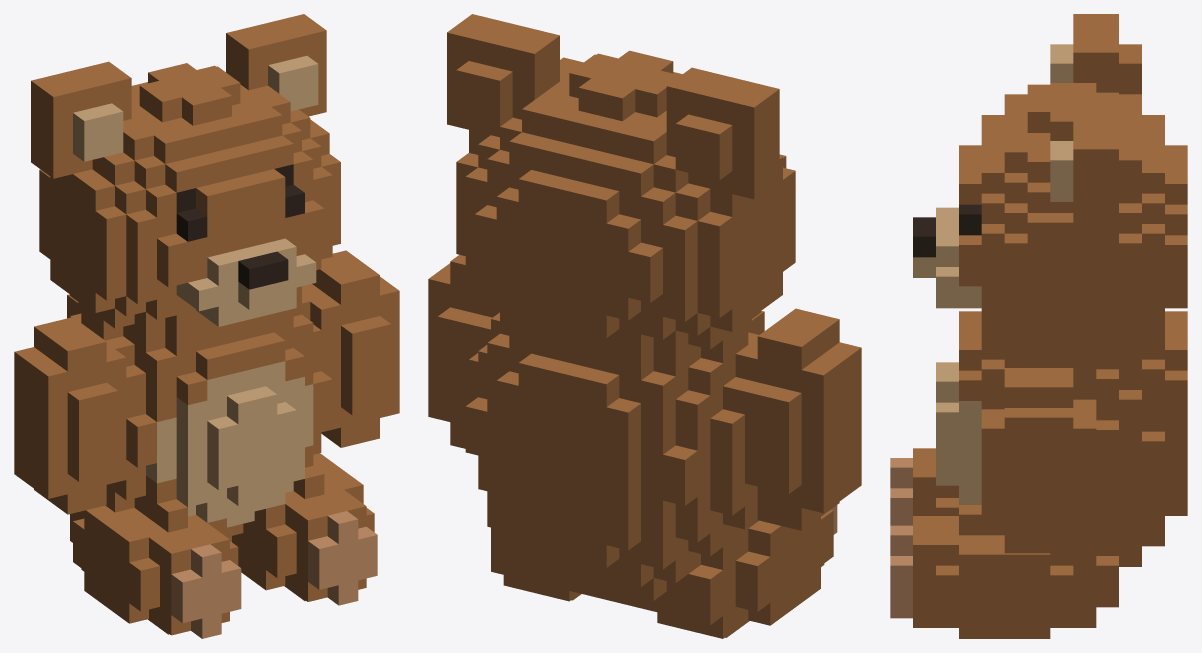
The model's file is teddy-bear.glb.
The picture shows the model from 3 angles, left to right: view 1: azimuth 30°, elevation 25°; view 2: azimuth 150°, elevation 25°; view 3: azimuth 270°, elevation 25°; orthographic projection. The views are drawn at different scales.
Parts seen in each view (by area): view 1: prop; view 2: prop; view 3: prop.
Part boxes in pixels (x1,y1,x2,y2): prop: (14,14,399,638); prop: (428,14,861,638); prop: (890,14,1187,638).
Bounding box in the file's own units: 11.52 × 16 × 8.32.
